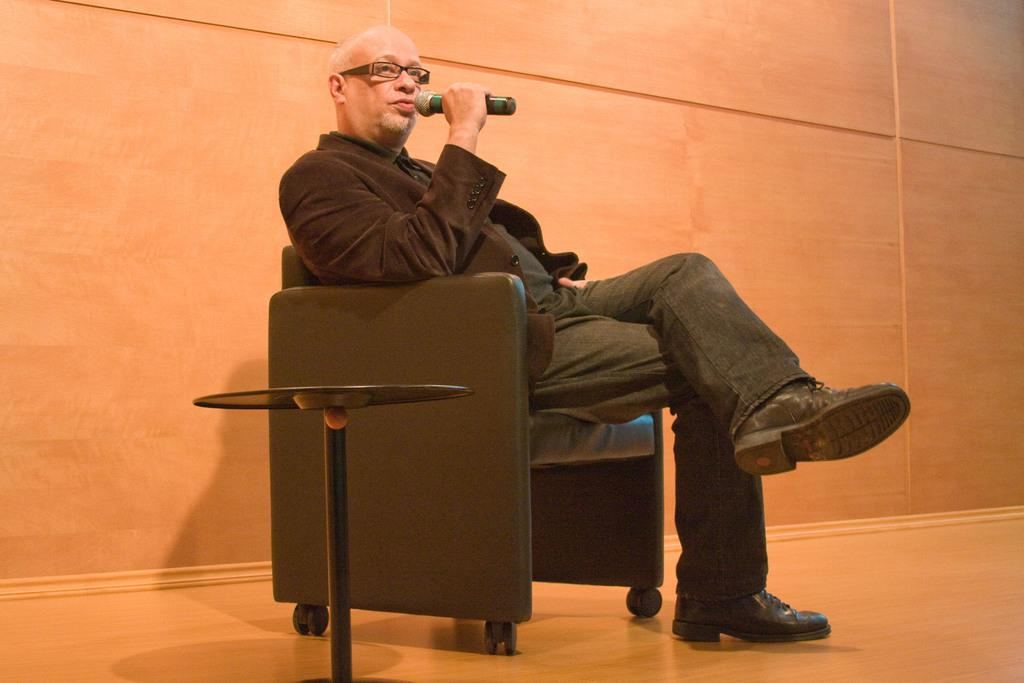Chair: (248, 251, 683, 651)
